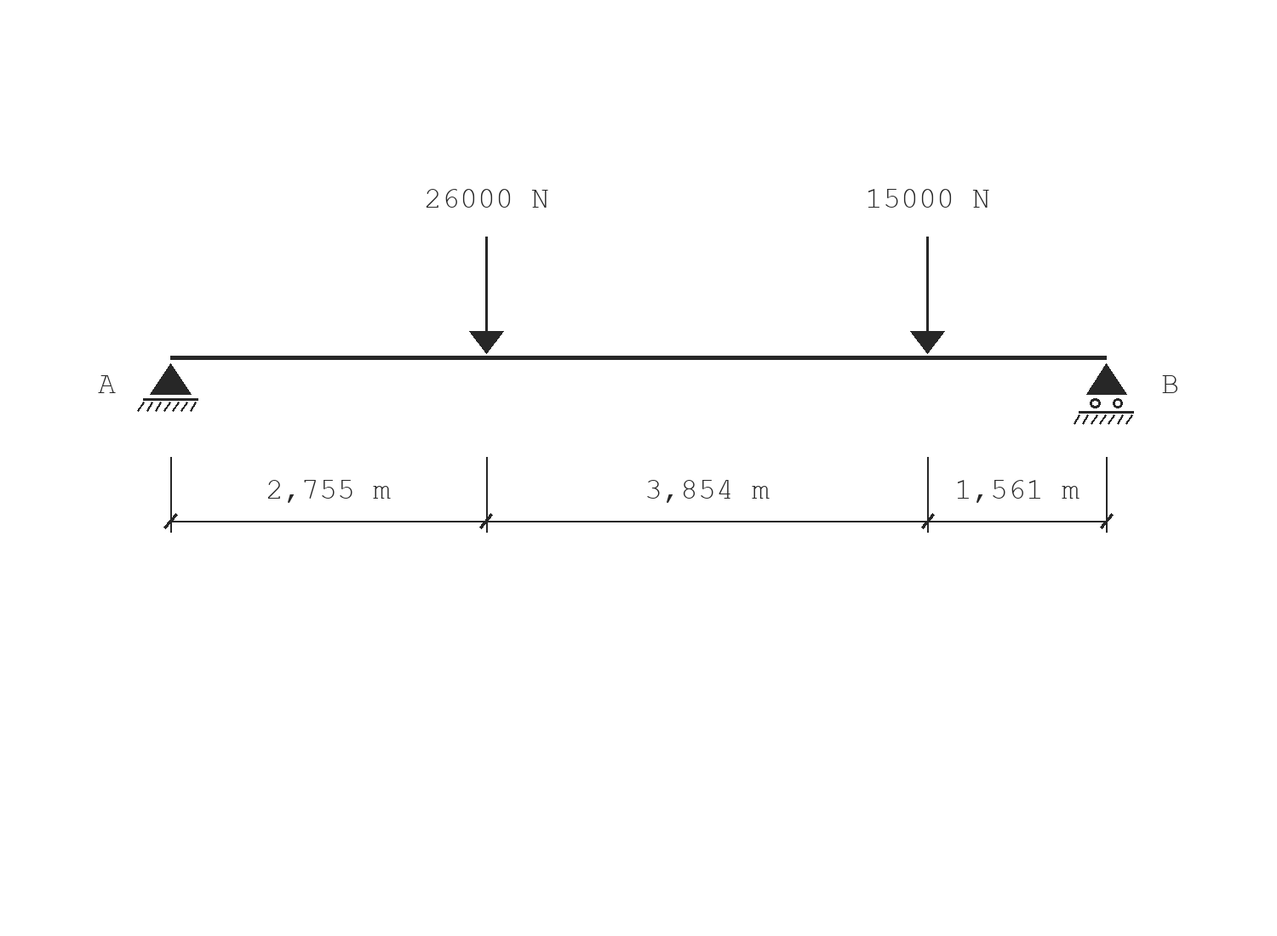pin_support: (137, 363, 198, 412)
point_load: (469, 237, 504, 354), (910, 237, 945, 354)
roller_support: (1074, 363, 1134, 425)
